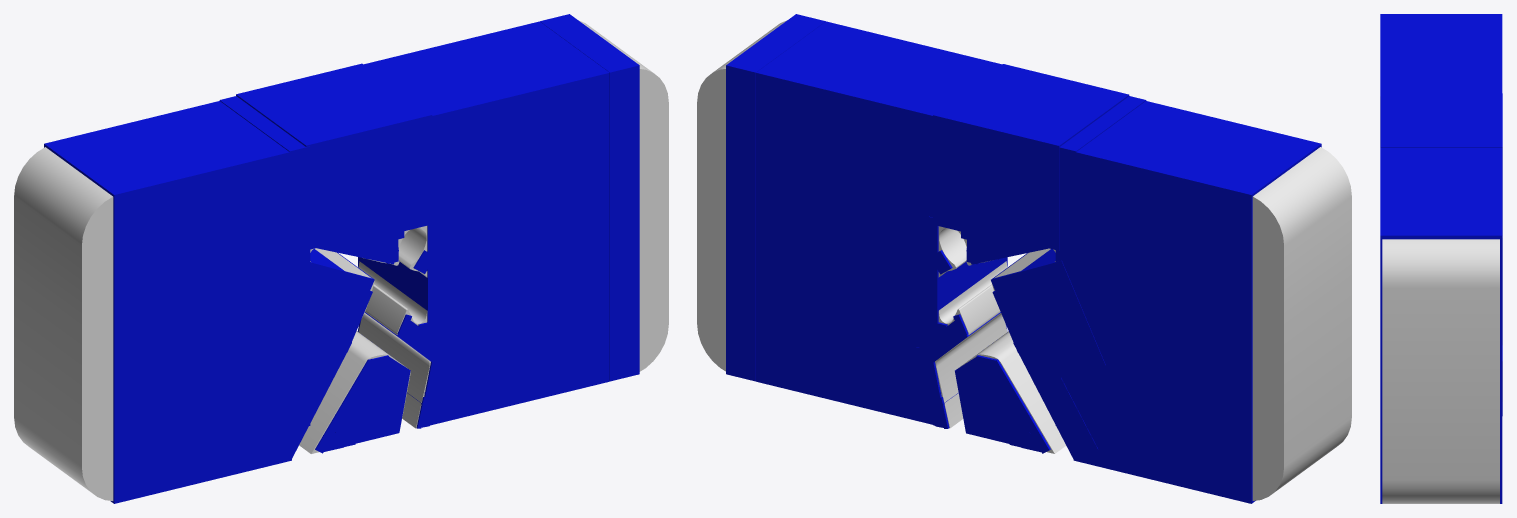
File: wall_model_1.fbx
3 views of the same model, side by side, from view 1: azimuth 30°, elevation 25°; view 2: azimuth 150°, elevation 25°; view 3: azimuth 270°, elevation 25° (orthographic). The views are drawn at different scales.
Visible parts, largest first — view 1: Cube.001, Cube.002, 3ARUR, Cube.005, Cube.003, Cube.004, Cube.006, Cube.025, Cube.014, Cube.022, Cube.028, Cube.027 (+2 smaller); view 2: Cube.002, Cube.001, 3ARUR, Cube.005, Cube.003, Cube.006, Cube.004, Cube.008, Cube.014, Cube.025, Cube.013, Cube.027 (+3 smaller); view 3: 3ARUR, Cube.002, Cube.001, Cube.005, Cube.003, Cube.004.
Boxes of the visible parts, x1,y1,x2,y2 form: Cube.001: [44, 101, 291, 503]; Cube.002: [363, 21, 609, 424]; 3ARUR: [14, 20, 668, 500]; Cube.005: [236, 63, 432, 249]; Cube.003: [540, 14, 639, 381]; Cube.004: [219, 96, 310, 429]; Cube.006: [310, 249, 374, 384]; Cube.025: [348, 390, 399, 445]; Cube.014: [358, 220, 431, 352]; Cube.022: [317, 235, 398, 264]; Cube.028: [346, 359, 400, 414]; Cube.027: [315, 359, 375, 453]; Cube.002: [756, 21, 1001, 424]; Cube.001: [1073, 101, 1321, 503]; 3ARUR: [697, 20, 1351, 500]; Cube.005: [933, 64, 1129, 250]; Cube.003: [726, 14, 825, 381]; Cube.006: [991, 249, 1105, 384]; Cube.004: [1055, 96, 1146, 425]; Cube.008: [1013, 333, 1097, 459]; Cube.014: [928, 216, 1007, 339]; Cube.025: [966, 390, 1016, 445]; Cube.013: [913, 324, 1007, 401]; Cube.027: [990, 359, 1050, 453]; 3ARUR: [1382, 239, 1499, 503]; Cube.002: [1380, 147, 1502, 222]; Cube.001: [1380, 14, 1502, 87]; Cube.005: [1380, 93, 1502, 235]; Cube.003: [1380, 223, 1502, 503]; Cube.004: [1380, 87, 1502, 147].
Size of the model in its own units: 500 by 254 by 104.
